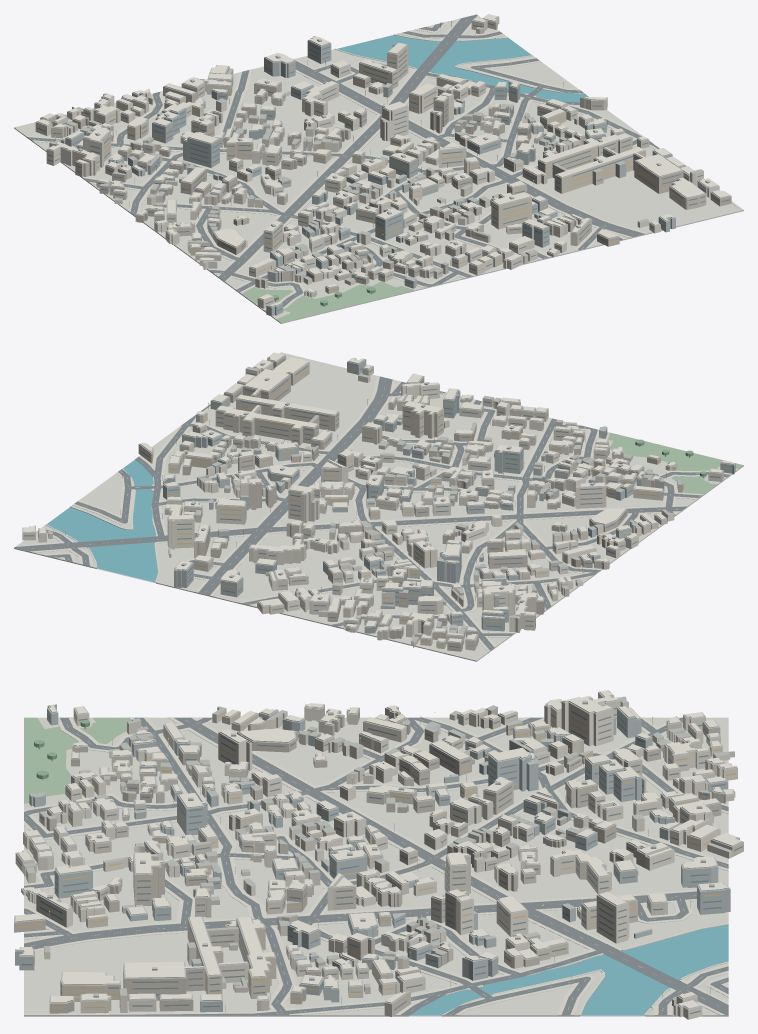
3 views of the same model, one above another, from view 1: azimuth 30°, elevation 25°; view 2: azimuth 150°, elevation 25°; view 3: azimuth 270°, elevation 25° (orthographic). The views are drawn at different scales.
Parts seen in each view (by area): view 1: city; view 2: city; view 3: city.
Part boxes in pixels (x1,y1,x2,y2): city: [14, 14, 743, 323]; city: [14, 352, 743, 661]; city: [14, 690, 743, 1019].
Size of the model in its own units: 521 by 30.75 by 518.
